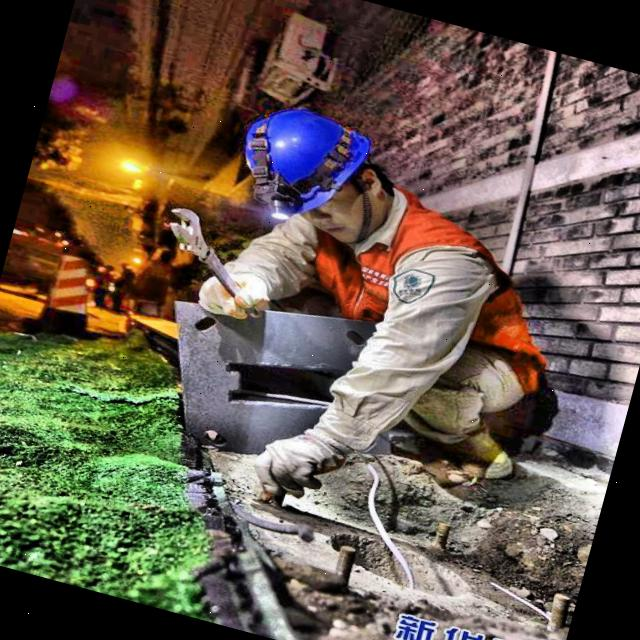helmet: (222, 88, 386, 231)
